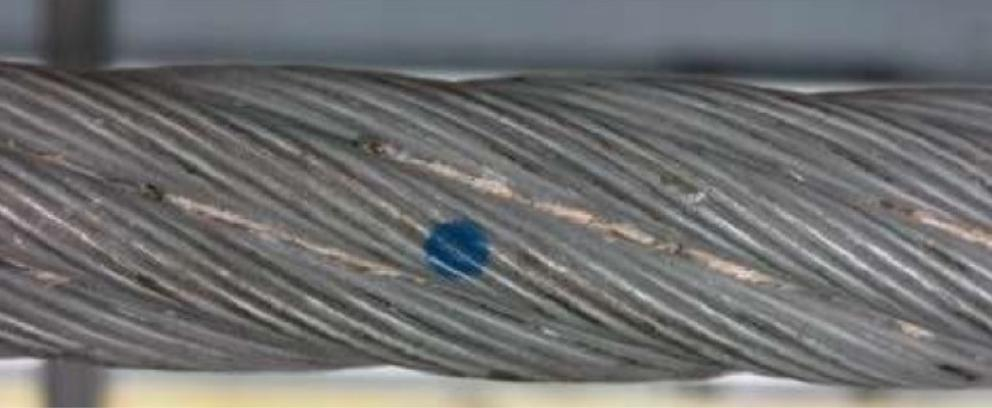thunderbolt: (414, 212, 497, 287)
